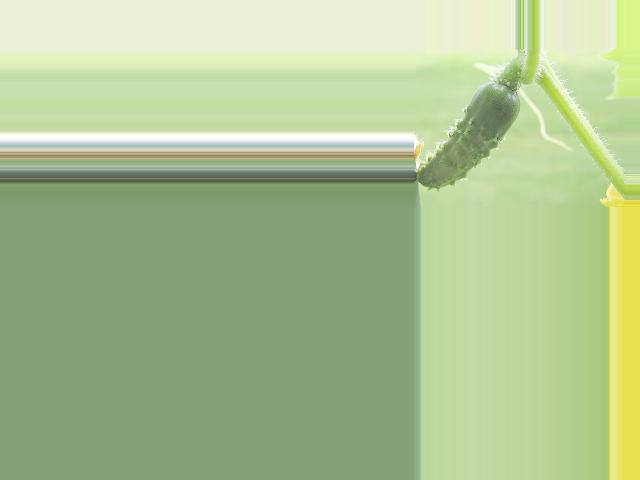cucumber: (417, 83, 522, 190)
